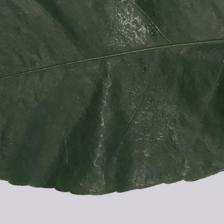healthy: (1, 4, 222, 176)
